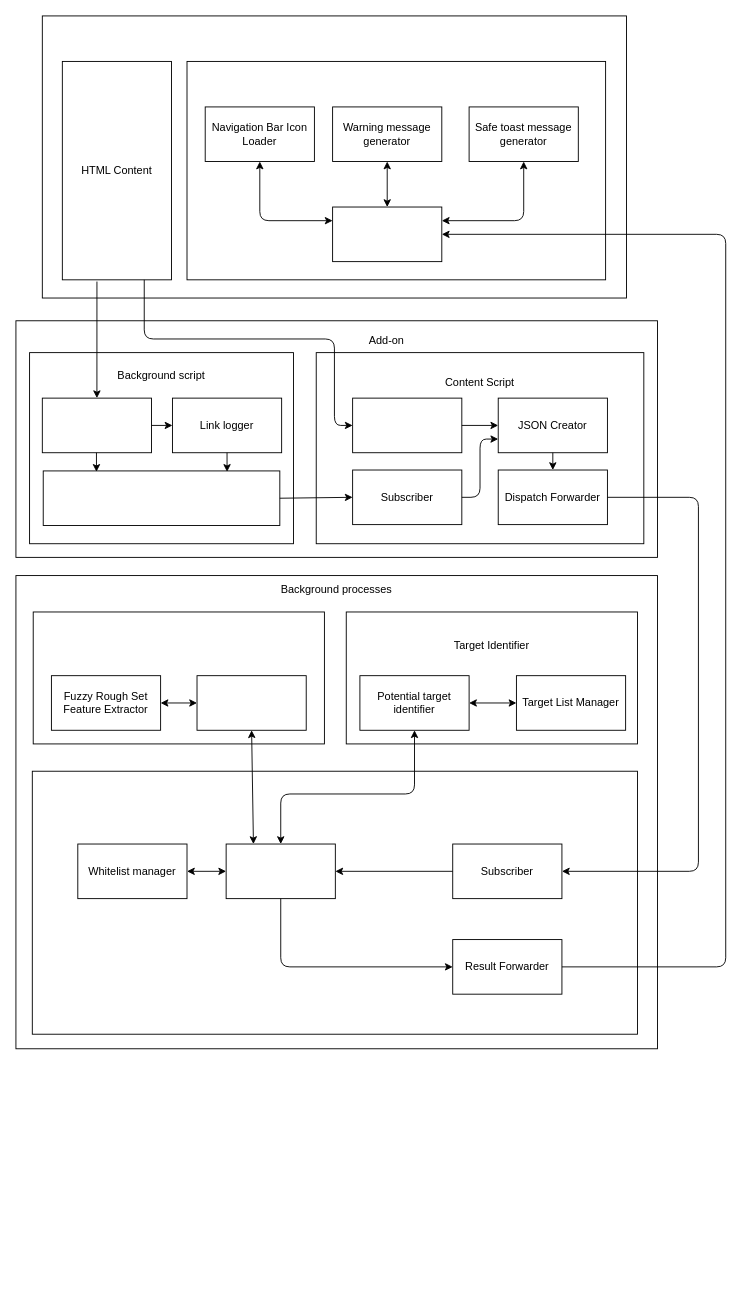
Some shapes in this 749 by 1293 pixel diagram are drawn without their labels. The box of each missing label's shape, as (x1, y1, x2, y2) in pixels:
Background Script Publisher: (42, 470, 280, 526)
Content Extractor: (352, 397, 462, 453)
Dispatcher: (31, 770, 637, 1034)
Landing URL Checker: (225, 843, 335, 899)
Output UI: (186, 61, 606, 280)
Phish Detector: (32, 611, 324, 744)
Random Forest Website Classifier: (196, 675, 306, 730)
Redirection chain collector: (41, 397, 152, 453)
Screen loader: (332, 206, 442, 262)
Web browser: (41, 15, 627, 298)
